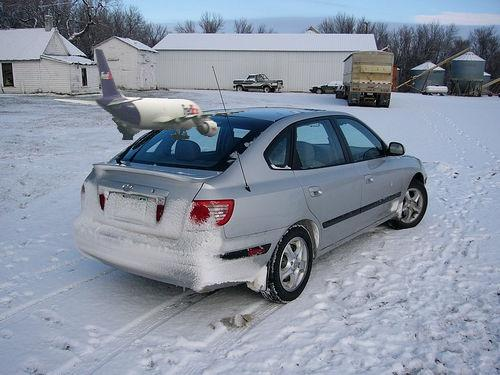tampered: (55, 50, 249, 140)
